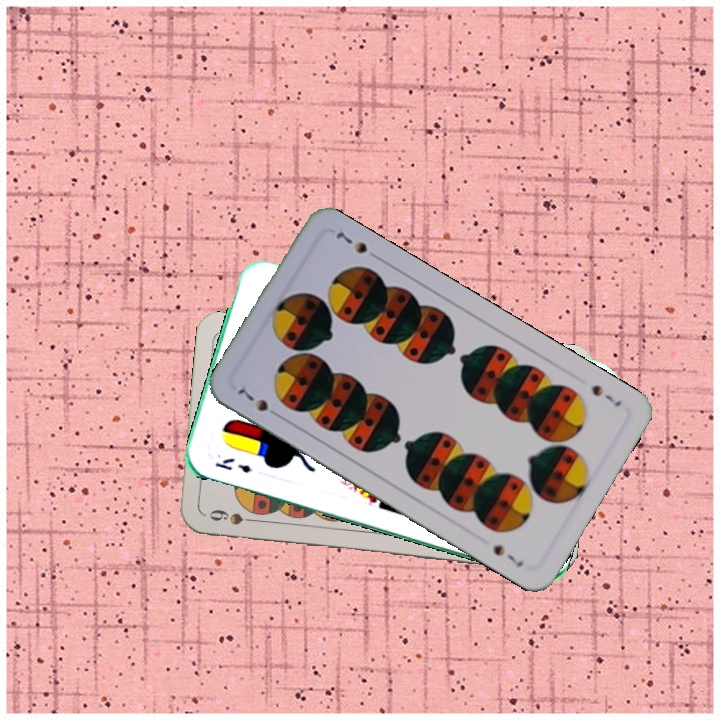EK: (212, 454, 255, 476)
S7: (233, 381, 284, 421), (587, 380, 625, 410)
S9: (205, 505, 263, 527)
